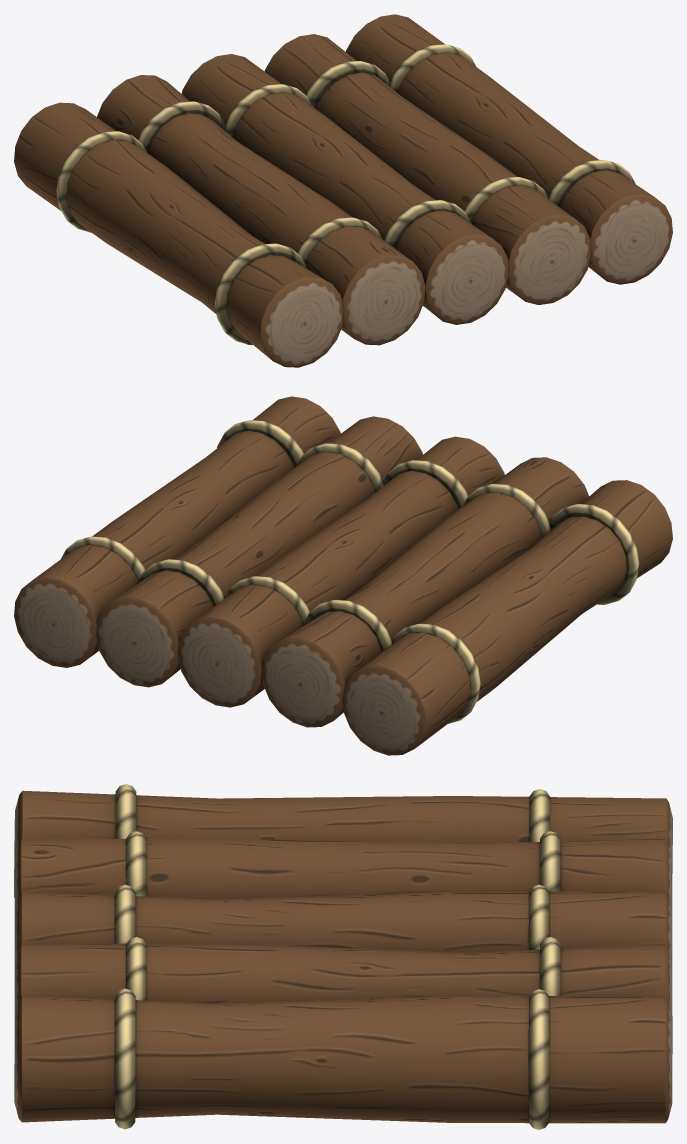
File: Wood Raft Stylized.fbx
3 renders of one model, top to bottom at view 1: azimuth 30°, elevation 25°; view 2: azimuth 150°, elevation 25°; view 3: azimuth 270°, elevation 25°, orthographic. The views are drawn at different scales.
Visible parts, largest first — view 1: Raft; view 2: Raft; view 3: Raft.
Part boxes in pixels (<box>): Raft: <box>14,14,672,367</box>; Raft: <box>14,396,672,755</box>; Raft: <box>14,784,672,1129</box>.
Bounding box in the file's own units: 226 × 234 × 54.02.
Materials: 1 (1 with a texture image).
